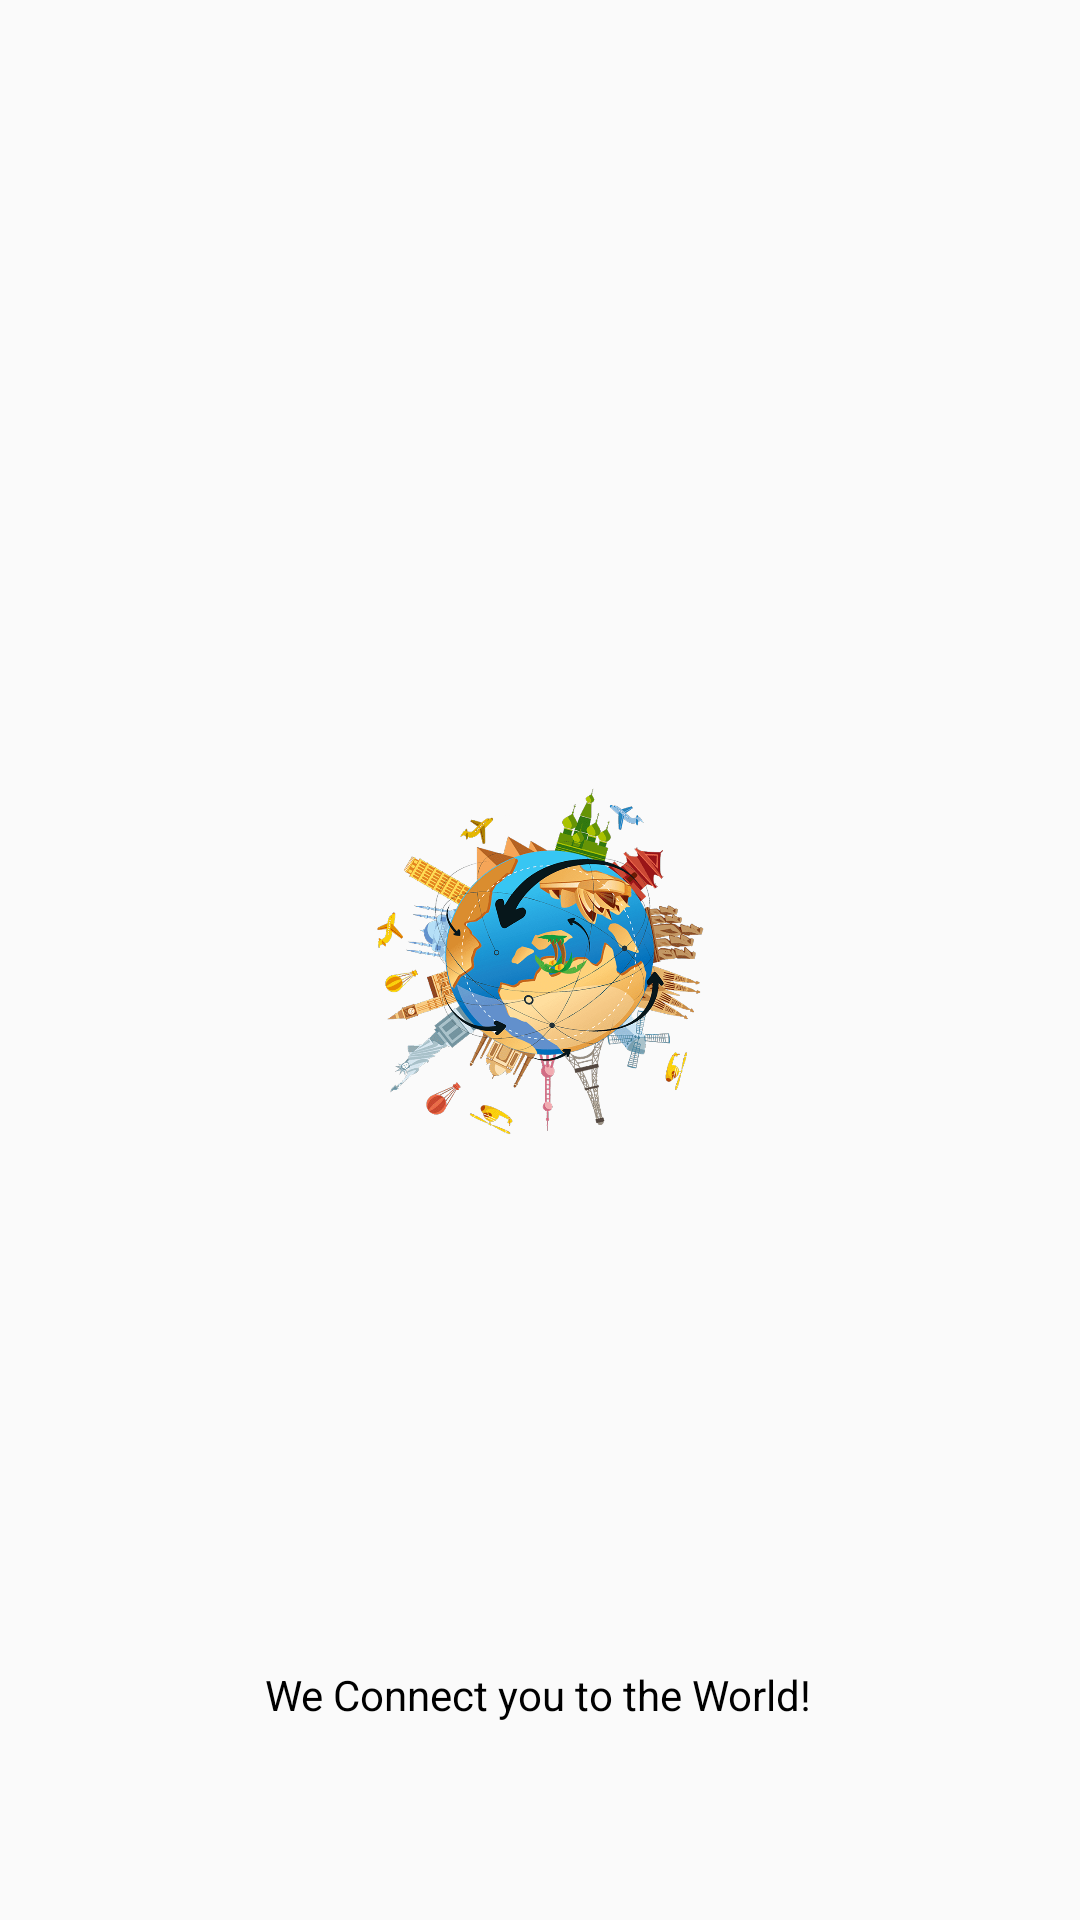

Icon click points for this 1080w x 1920h phone screenshot, format [x,y]:
earth orbit: [540,961]
